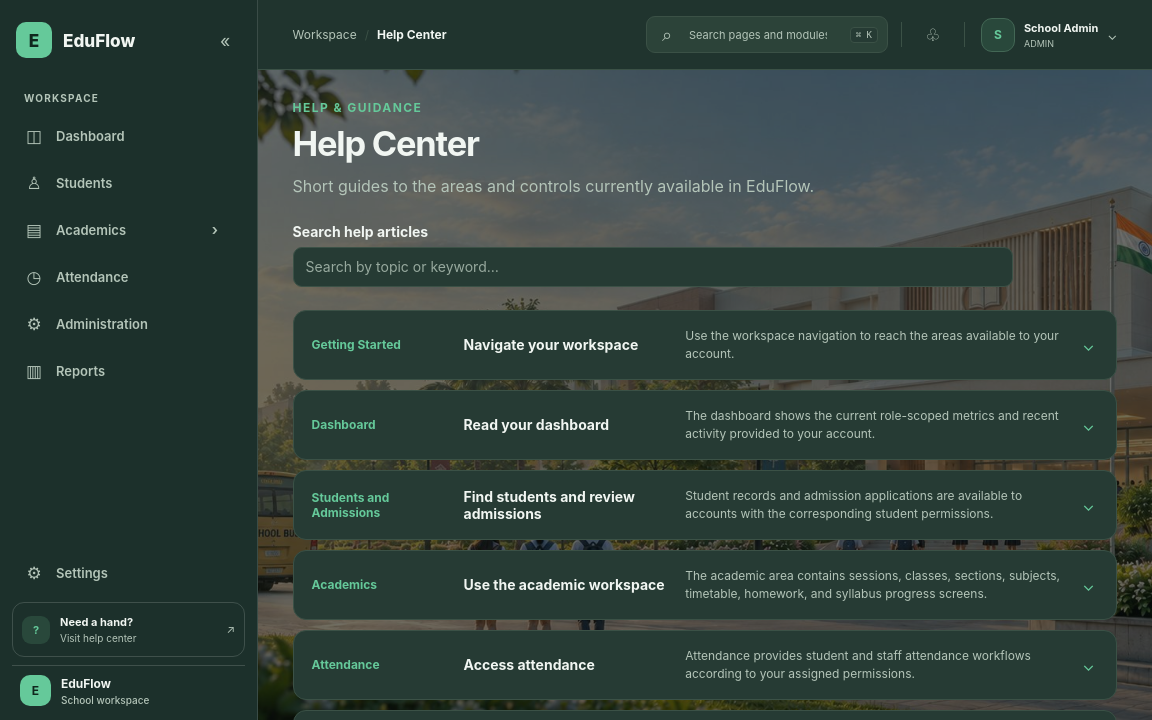
Scenario: Help Center › shows local articles, filters their text, and explains an empty result
The image size is (1152, 720).
Expected: the text "The dashboard shows the current role-scoped metrics and recent activity provided to your account." is shown, [685,408,1059,441]
Type "attendance" into the search field labelled "Search help articles". click: x=652, y=267
box: [292,247,1012,287]
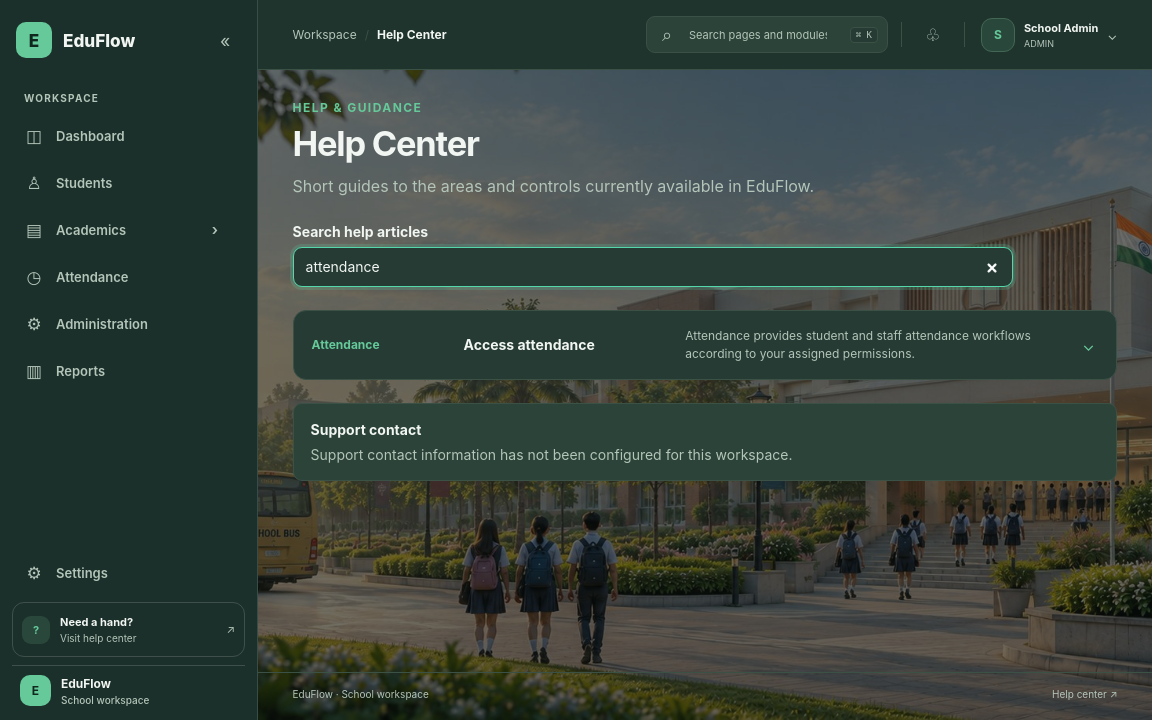
Expected: the text "Access attendance" is shown, [464,336,595,353]
Now the heading "Navigate your workspace" is gone
Replace the text in the search field labelled "Search help articles" with "no matching article words". click: x=652, y=267
box: [292,247,1012,287]
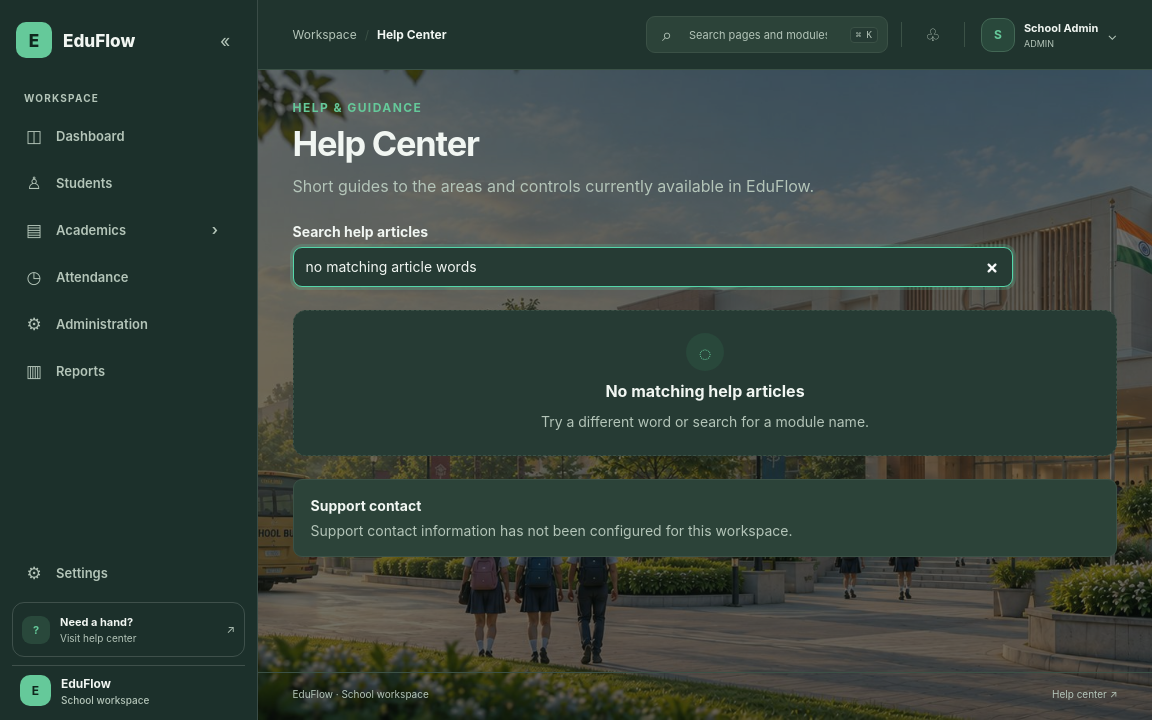
Now the text "No matching help articles" is shown, box [605,381,805,401]
